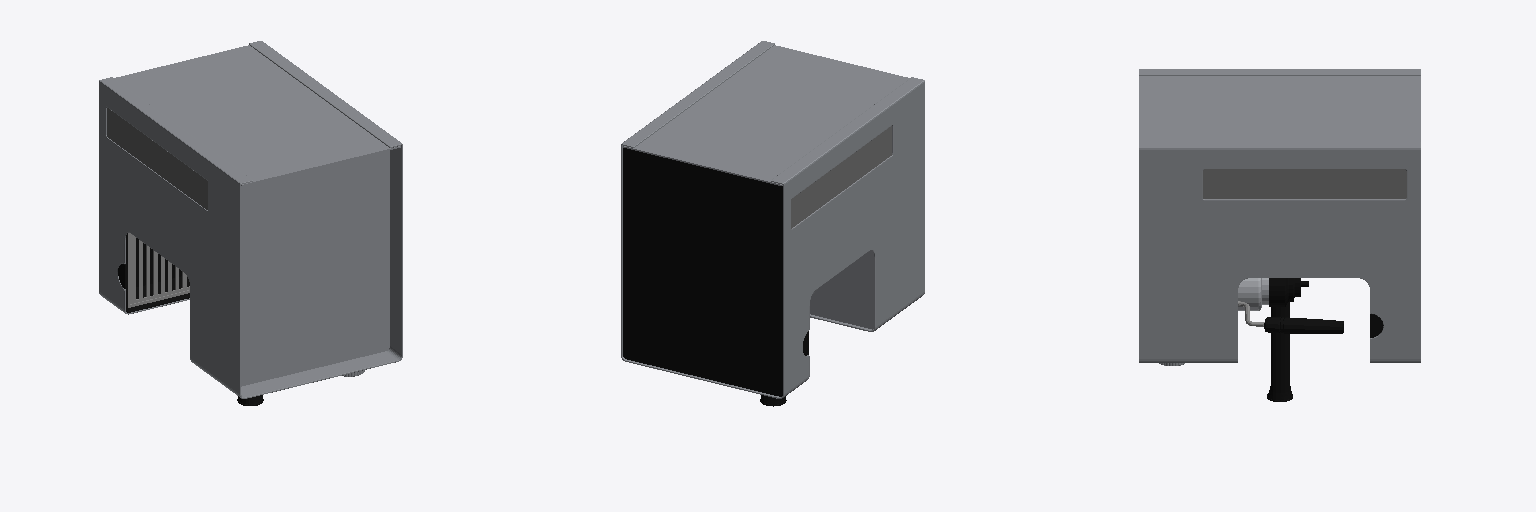
3 views of the same model, side by side, from view 1: azimuth 30°, elevation 25°; view 2: azimuth 150°, elevation 25°; view 3: azimuth 270°, elevation 25° (orthographic).
Visible parts, largest first — view 1: 11638_Espresso_Machine; view 2: 11638_Espresso_Machine; view 3: 11638_Espresso_Machine.
Part boxes in pixels (x1,y1,x2,y2): 11638_Espresso_Machine: (99,41,402,405); 11638_Espresso_Machine: (621,41,924,406); 11638_Espresso_Machine: (1139,69,1420,401).
Bounding box in the file's own units: 21.21 × 34 × 30.
2 materials, 1 textured.